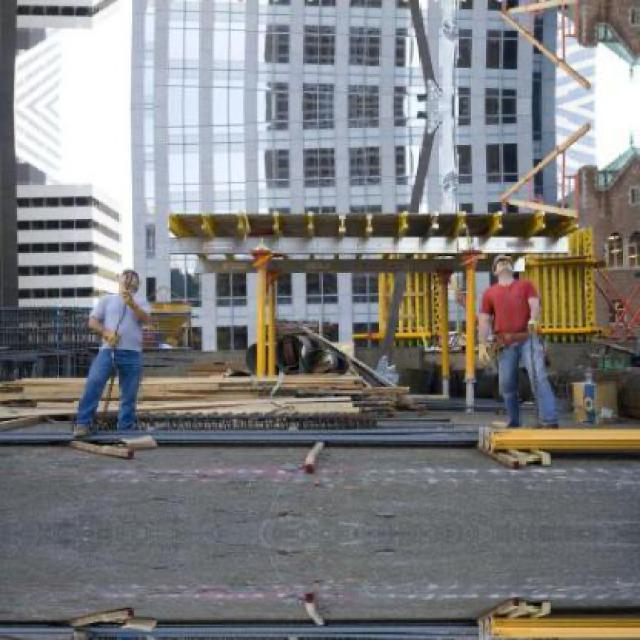con casco: (458, 250, 547, 320), (87, 248, 166, 316)
